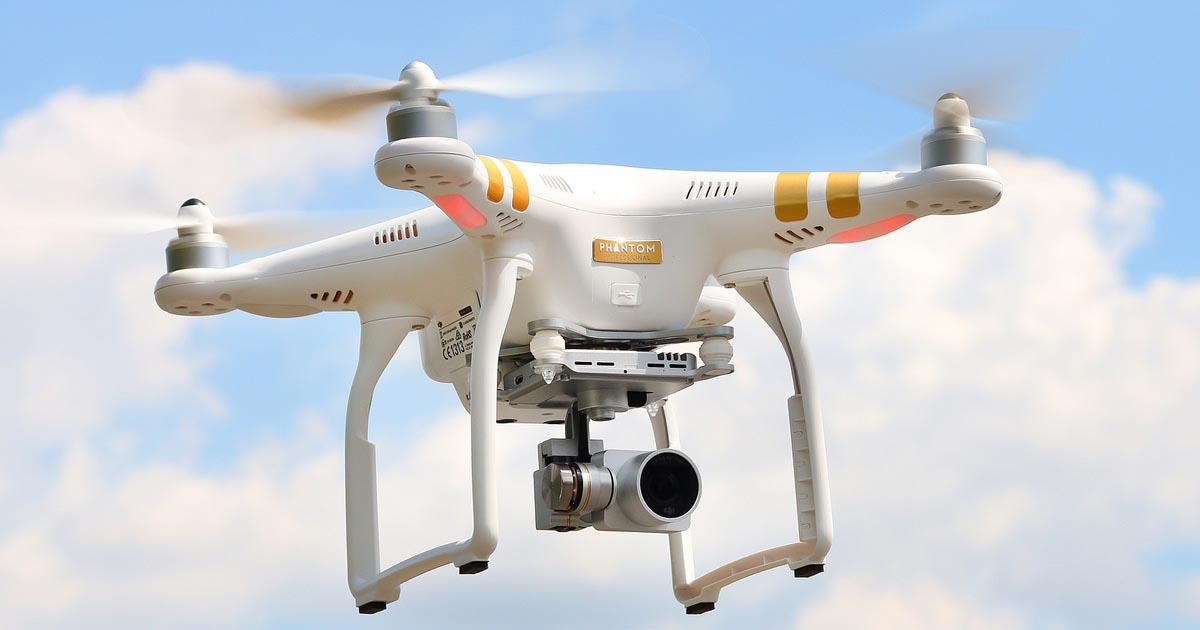drone: (115, 49, 1085, 475)
